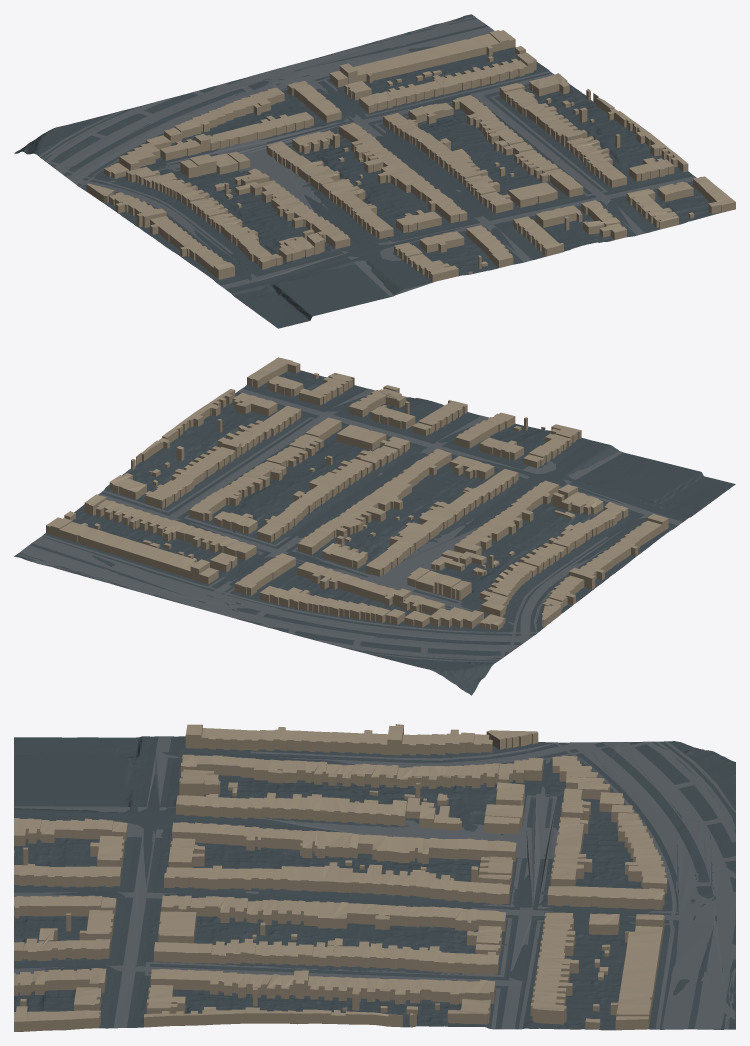
Rendered from epsg26910-1417-10876.lod0.glb.
The picture shows the model from 3 angles, top to bottom: view 1: azimuth 30°, elevation 25°; view 2: azimuth 150°, elevation 25°; view 3: azimuth 270°, elevation 25°; orthographic projection. The views are drawn at different scales.
Visible parts, largest first — view 1: epsg26910-1417-10876-lod0; view 2: epsg26910-1417-10876-lod0; view 3: epsg26910-1417-10876-lod0.
Boxes of the visible parts, x1,y1,x2,y2 form: epsg26910-1417-10876-lod0: [14, 14, 735, 328]; epsg26910-1417-10876-lod0: [14, 357, 735, 695]; epsg26910-1417-10876-lod0: [14, 724, 735, 1031].
Size of the model in its own units: 384 by 34.25 by 384.
